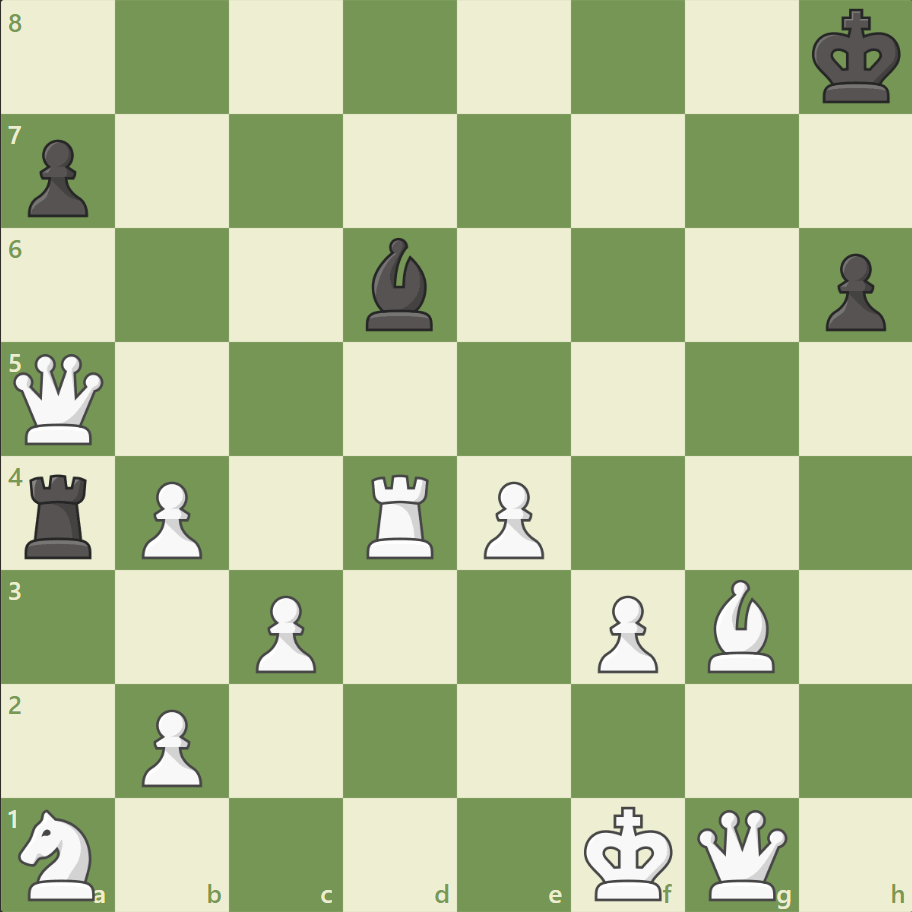B: (698, 574, 782, 676)
K: (579, 798, 679, 906)
N: (11, 802, 108, 904)
P: (133, 473, 208, 564), (474, 473, 549, 564), (247, 586, 322, 677), (133, 700, 208, 791), (588, 586, 662, 677)
Q: (10, 349, 109, 449), (691, 804, 790, 903)
R: (360, 466, 442, 563)
b: (358, 233, 442, 336)
k: (806, 4, 906, 112)
p: (20, 132, 95, 223), (815, 246, 889, 337)
r: (19, 466, 102, 563)
